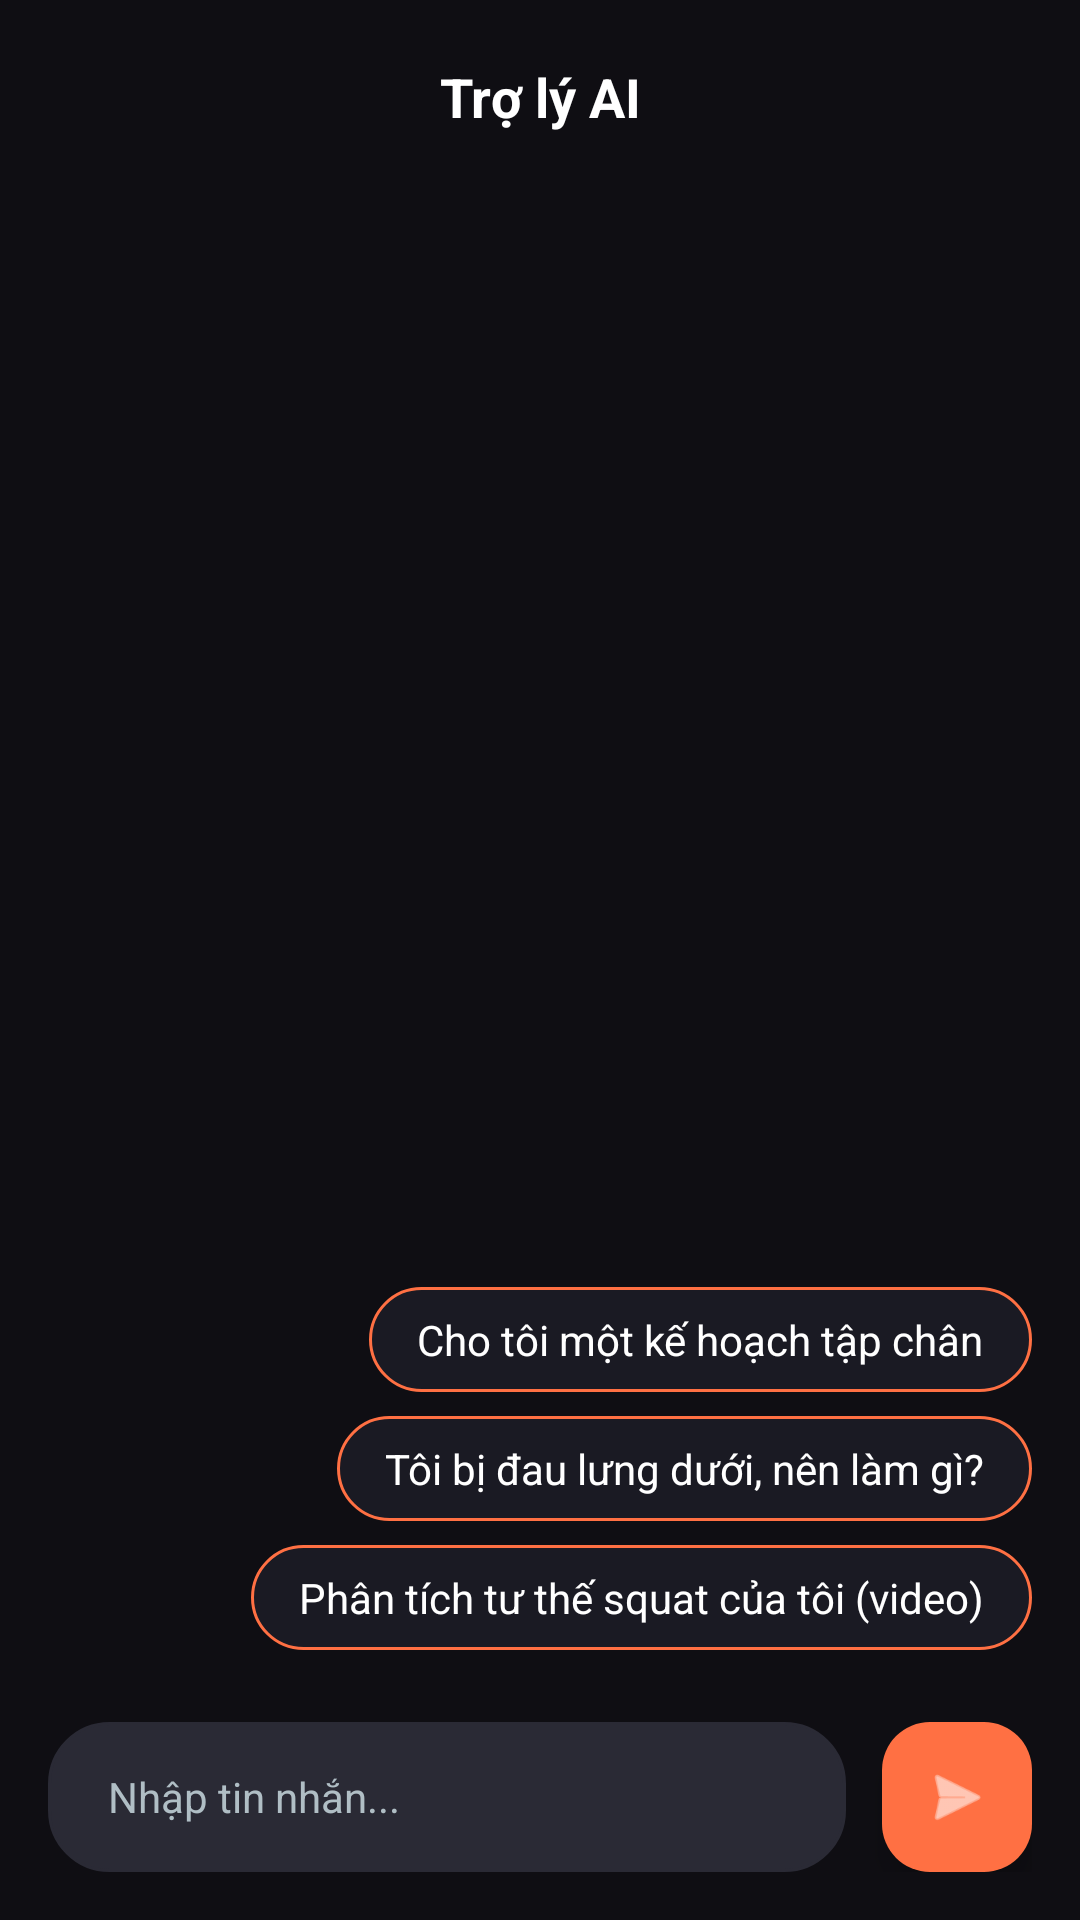

Screen size 1080*1920. Icon name, then its box in pixels as [left=x1, top=y1, right=x2, bottom=y2]:
send: [left=882, top=1722, right=1032, bottom=1872]
